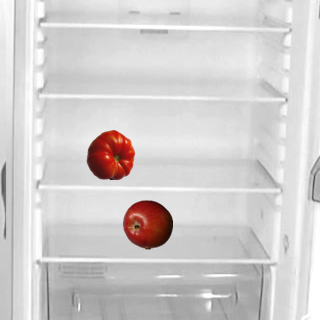Apple Braeburn: (122, 199, 172, 249)
Tomato 3: (85, 129, 135, 179)
